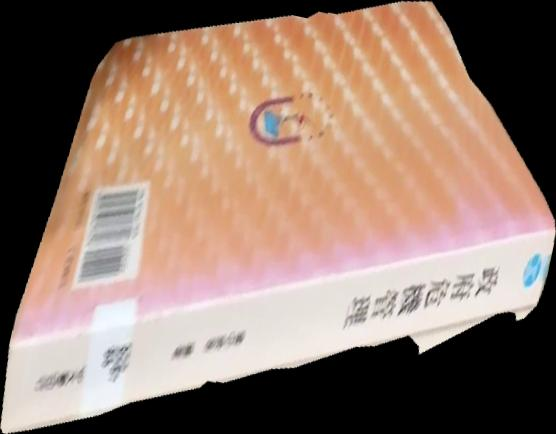flat: (1, 1, 556, 434)
